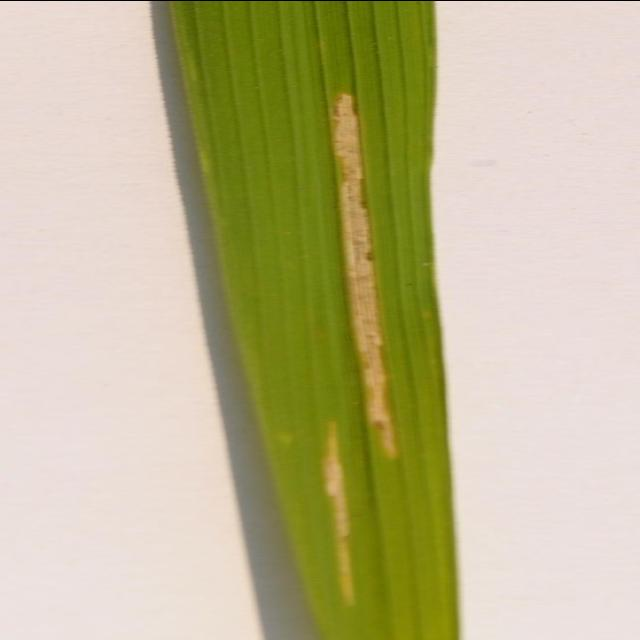Bacterial_Leaf_Blight: (294, 74, 419, 464), (270, 394, 384, 612)
